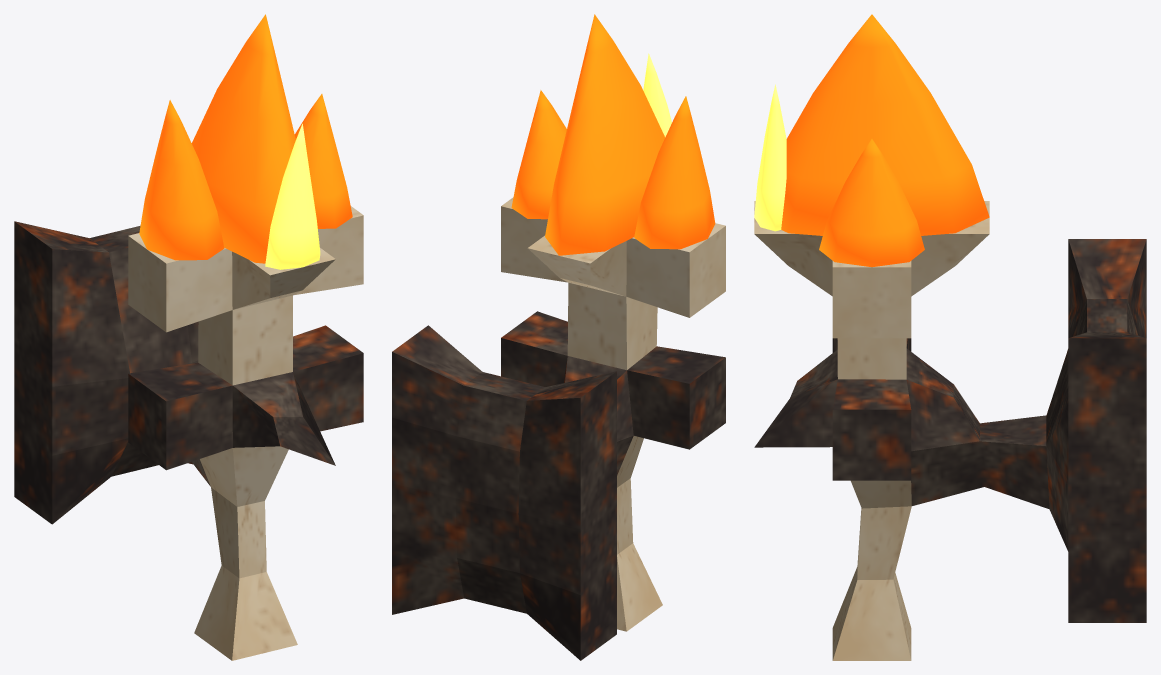
Rendered from wall_torch.glb.
3 views of the same model, side by side, from view 1: azimuth 30°, elevation 25°; view 2: azimuth 150°, elevation 25°; view 3: azimuth 270°, elevation 25° (orthographic). The views are drawn at different scales.
Visible parts, largest first — view 1: crypt_wall_torch; view 2: crypt_wall_torch; view 3: crypt_wall_torch.
Boxes of the visible parts, bbox=[...] form: crypt_wall_torch: bbox=[14, 14, 363, 660]; crypt_wall_torch: bbox=[392, 14, 725, 660]; crypt_wall_torch: bbox=[754, 14, 1146, 660].
Size of the model in its own units: 0.1875 by 0.5625 by 0.3125.
Materials: 4 (1 with a texture image).
